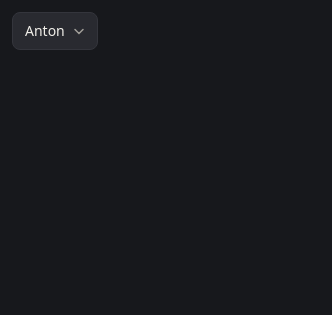
Test: Select › opens upwards near the bottom of the window, so the page doesn't jump
This screenshot has width=332, height=315.
Click the button with aria-label "Font".
click(55, 31)  # box [12,12,98,50]
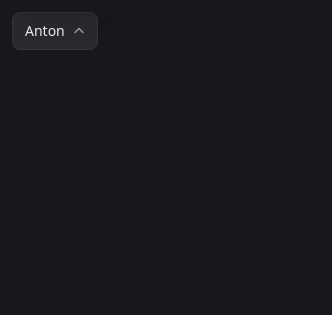
Click the button with aria-label "Font".
click(55, 31)  # box [12,12,98,50]
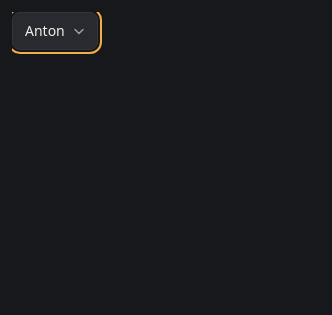
Click the button with aria-label "Font".
click(55, 31)  # box [12,12,98,50]
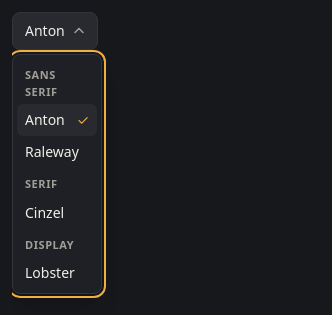
Result: the list has class "top-full" at [12,54,102,294]
